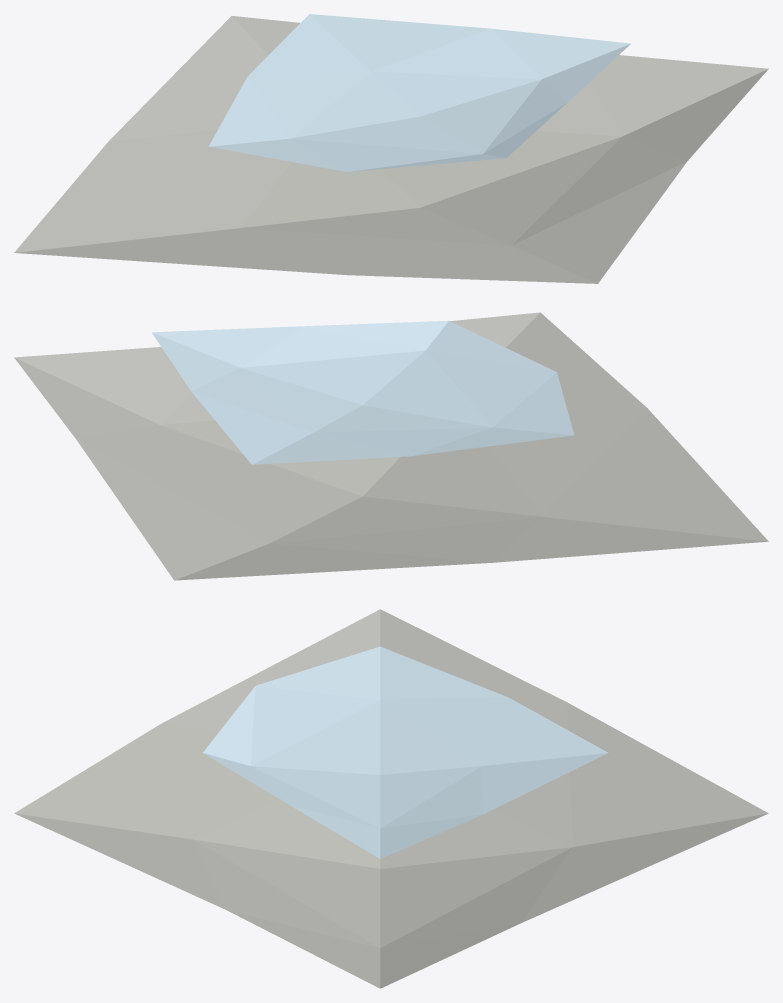
File: puddle_stone_v38.glb
3 renders of one model, top to bottom at view 1: azimuth 30°, elevation 25°; view 2: azimuth 150°, elevation 25°; view 3: azimuth 270°, elevation 25°, orthographic. The views are drawn at different scales.
Visible parts, largest first — view 1: lod0; view 2: lod0; view 3: lod0.
Boxes of the visible parts, box(x1,y1,x2,y2) form: lod0: box(14, 14, 768, 283); lod0: box(14, 312, 768, 580); lod0: box(14, 609, 768, 988).
Size of what is drawn, in the model's own units: 0.9423 by 0.1683 by 0.7919.
